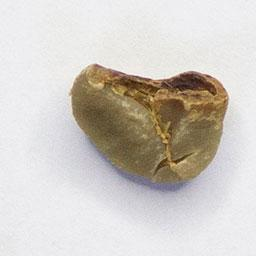defect: (66, 61, 231, 188)
